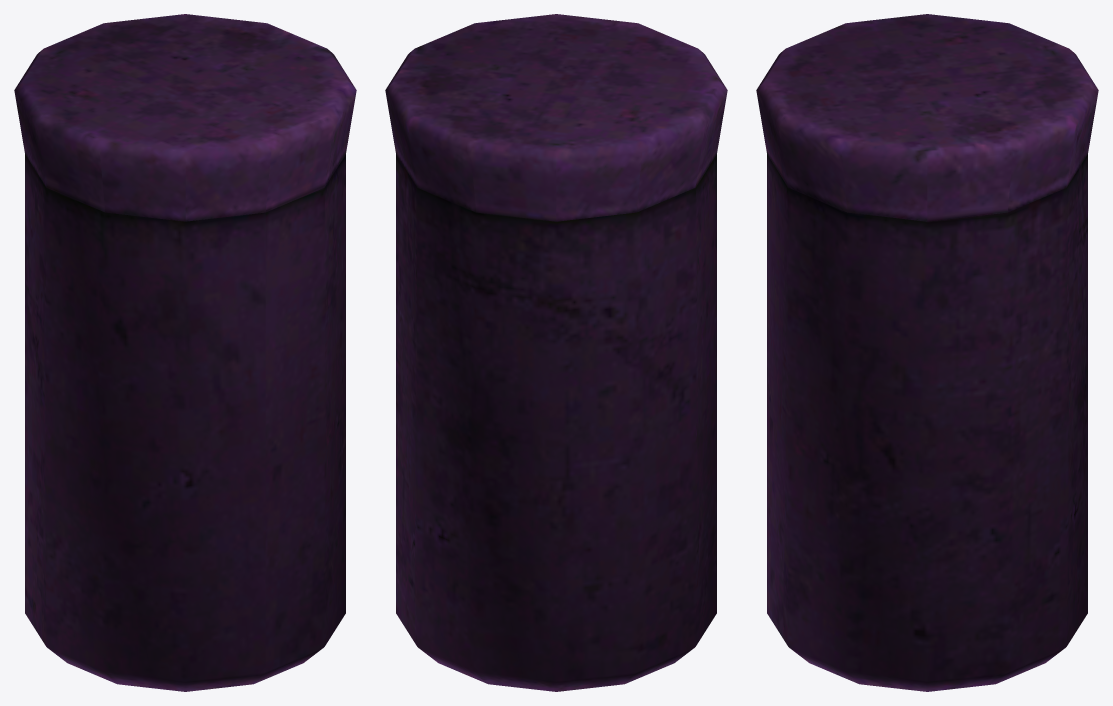
Rendered from quartz_match_box.dae.
The picture shows the model from 3 angles, left to right: view 1: azimuth 30°, elevation 25°; view 2: azimuth 150°, elevation 25°; view 3: azimuth 270°, elevation 25°; orthographic projection.
Parts seen in each view (by area): view 1: tinderbox_mesh; view 2: tinderbox_mesh; view 3: tinderbox_mesh.
Boxes of the visible parts, box(x1,y1,x2,y2) form: tinderbox_mesh: box(14, 14, 356, 691); tinderbox_mesh: box(385, 14, 727, 691); tinderbox_mesh: box(756, 14, 1098, 691).
Bounding box in the file's own units: 0.1034 × 0.1837 × 0.1034.
